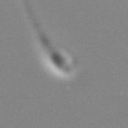normal: (22, 2, 54, 49)
